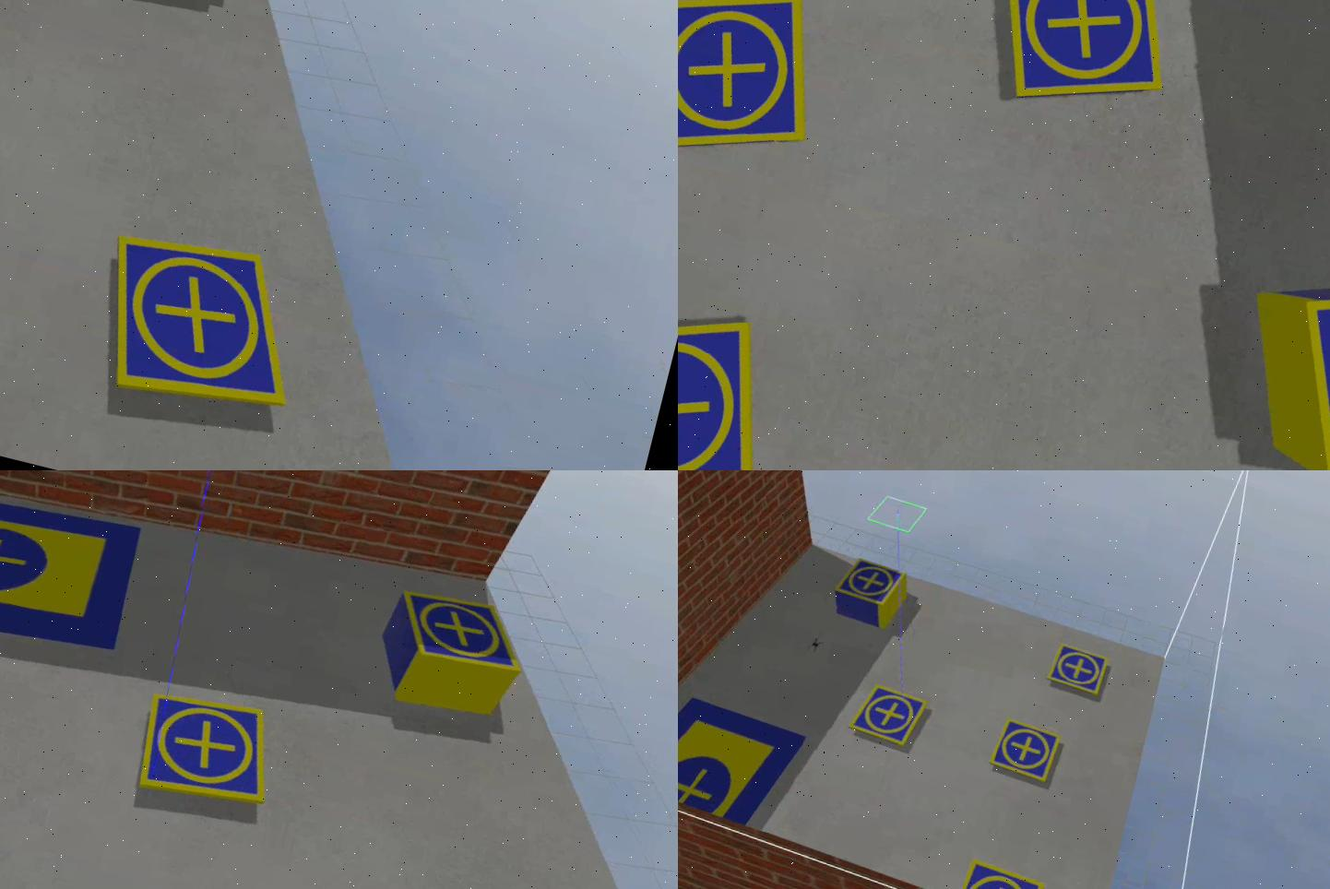large_base: (1, 471, 148, 679), (679, 683, 810, 837)
small_base: (83, 225, 315, 430), (679, 1, 844, 186), (975, 1, 1193, 133), (129, 685, 286, 821), (679, 285, 788, 471), (1259, 255, 1330, 471), (387, 583, 537, 684), (849, 682, 930, 751), (990, 717, 1063, 787), (836, 555, 908, 608), (1047, 642, 1112, 698), (957, 860, 1047, 889)
